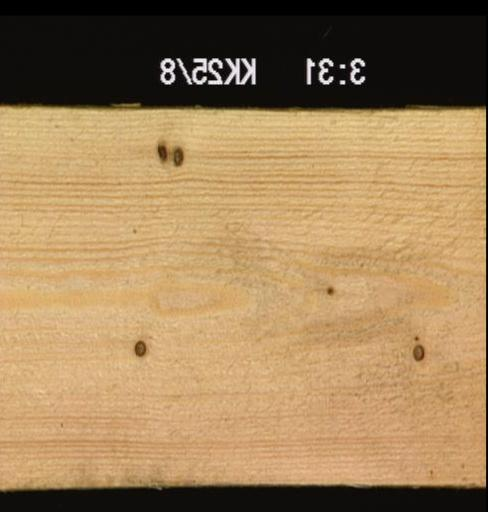dry_knot: (133, 338, 147, 356), (412, 342, 425, 361), (172, 145, 183, 165), (156, 141, 167, 159)
small_knot: (324, 282, 334, 295)
